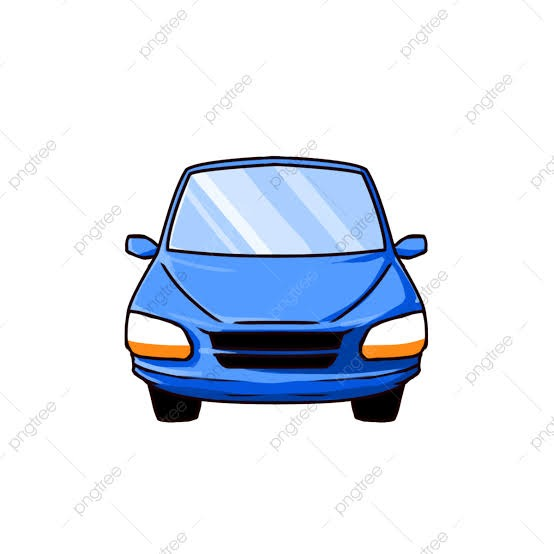car: (117, 160, 432, 407)
